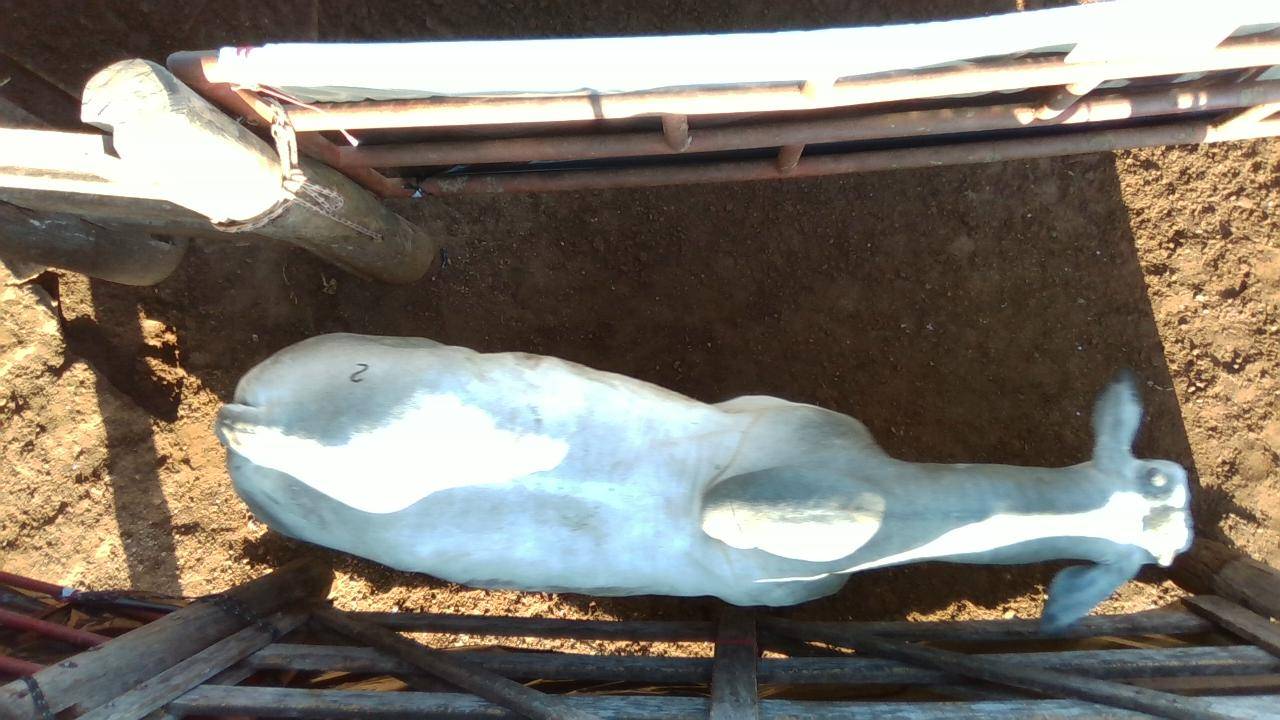cattle: (213, 330, 1195, 635)
